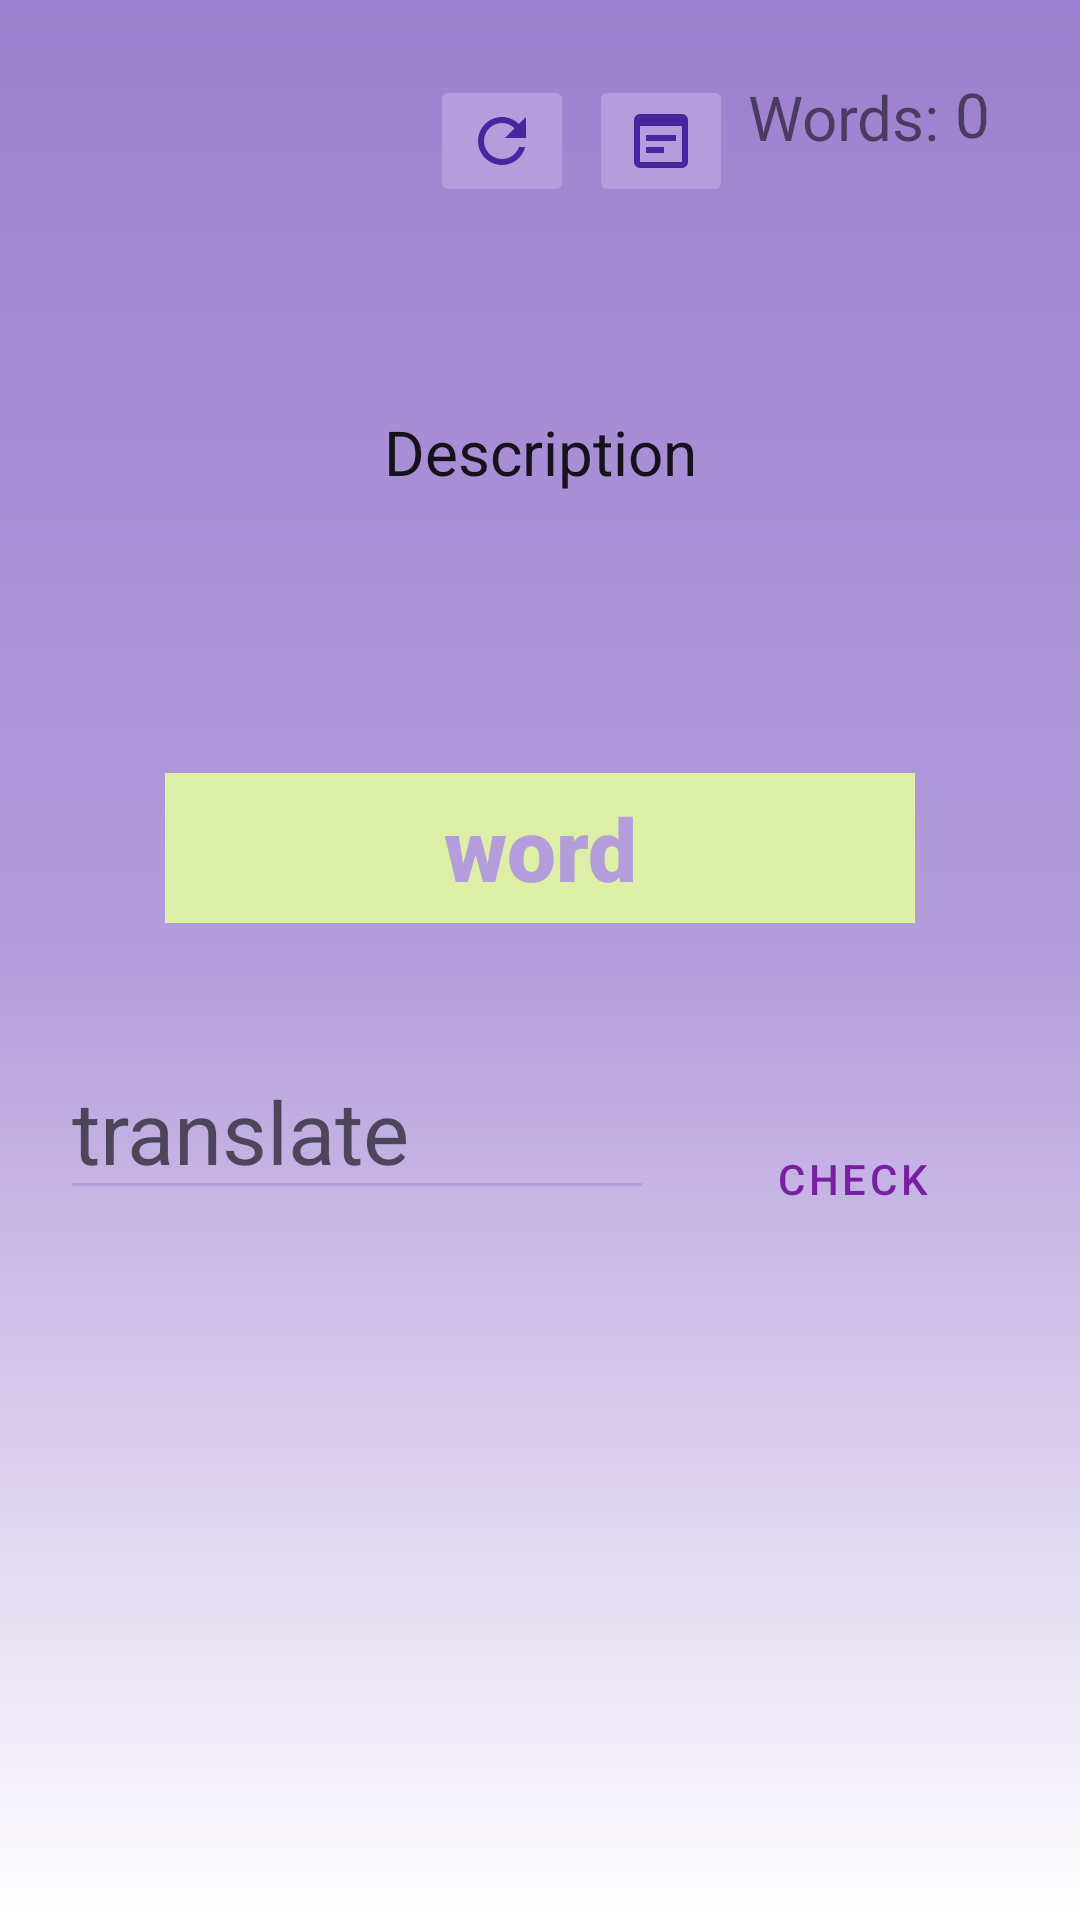

Locate icon controls on the screen. Image size 1080 × 1920, boxes as (x1, y1, x2, y2).
refresh: (442, 93, 562, 189)
wysiwyg: (601, 93, 721, 189)
